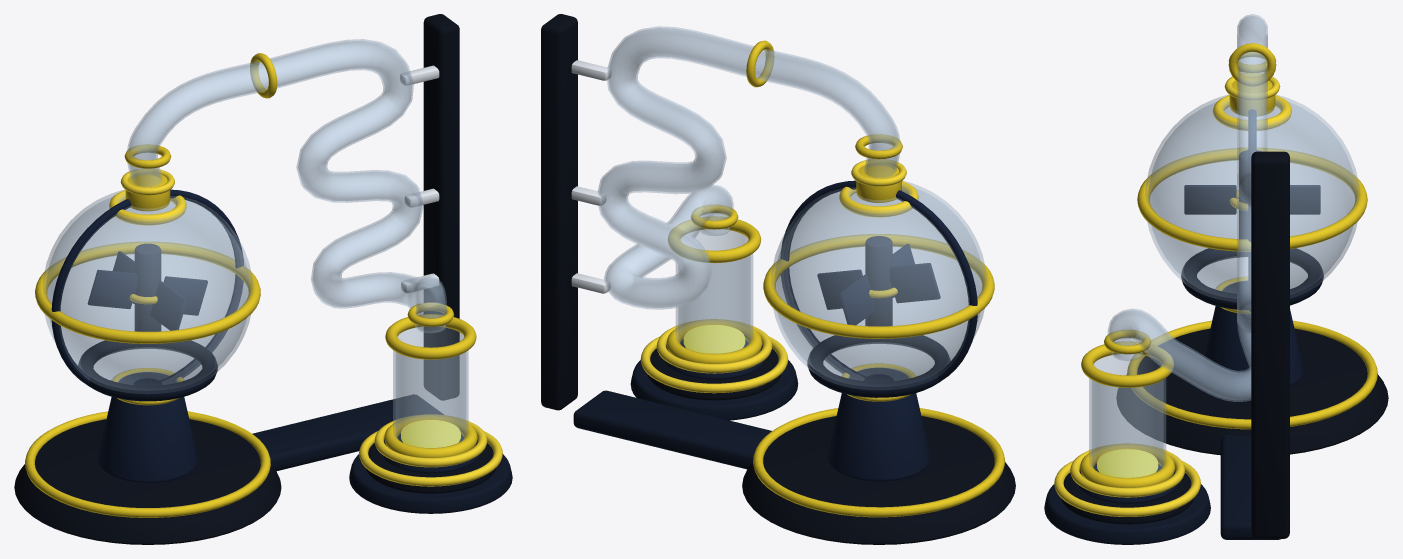
File: raffle-machine.glb
3 renders of one model, left to right at view 1: azimuth 30°, elevation 25°; view 2: azimuth 150°, elevation 25°; view 3: azimuth 270°, elevation 25°, orthographic. The views are drawn at different scales.
Parts seen in each view (by area): view 1: Ball_Chamber, Ball_Tube, Machine_Base, Machine_Support_Spine, WinningBall_Display, Machine_Support, Machine_Base_Arm, Chamber_Frame, Machine_Base_Ring, WinningBall_Podium_03, Chamber_Frame_Meridian, Chamber_Cradle (+17 smaller); view 2: Ball_Chamber, Ball_Tube, Machine_Base, Machine_Support_Spine, Machine_Support, Machine_Base_Arm, WinningBall_Display, Chamber_Frame, Machine_Base_Ring, Chamber_Frame_Meridian, Chamber_Cradle, WinningBall_Podium_03 (+19 smaller); view 3: Ball_Chamber, Machine_Base, Machine_Support_Spine, Ball_Tube, WinningBall_Display, Chamber_Frame, Machine_Support, WinningBall_Podium_03, Machine_Base_Ring, Machine_Base_Arm, Chamber_Cradle, WinningBall_Ring_Top (+15 smaller).
Boxes of the visible parts, x1,y1,x2,y2 form: Ball_Chamber: (43, 190, 252, 393); Ball_Tube: (127, 39, 446, 332); Machine_Base: (14, 419, 281, 544); Machine_Support_Spine: (423, 14, 459, 400); WinningBall_Display: (393, 327, 468, 447); Machine_Support: (97, 372, 197, 483); Machine_Base_Arm: (252, 394, 443, 471); Chamber_Frame: (35, 242, 260, 343); Machine_Base_Ring: (25, 411, 270, 517); WinningBall_Podium_03: (349, 454, 512, 513); Chamber_Frame_Meridian: (51, 189, 243, 385); Chamber_Cradle: (78, 340, 217, 401); Ball_Chamber: (771, 181, 986, 389); Ball_Tube: (597, 26, 900, 309); Machine_Base: (742, 416, 1015, 544); Machine_Support_Spine: (541, 14, 577, 410); Machine_Support: (827, 368, 930, 481); Machine_Base_Arm: (573, 390, 771, 469); WinningBall_Display: (676, 229, 752, 353); Chamber_Frame: (763, 234, 994, 338); Machine_Base_Ring: (753, 408, 1004, 517); Chamber_Frame_Meridian: (780, 180, 977, 381); Chamber_Cradle: (807, 335, 950, 397); WinningBall_Podium_03: (630, 360, 798, 420); Ball_Chamber: (1145, 95, 1359, 301); Machine_Base: (1116, 328, 1388, 455); Machine_Support_Spine: (1251, 151, 1289, 538); Ball_Tube: (1108, 14, 1267, 401); WinningBall_Display: (1089, 354, 1165, 477); Chamber_Frame: (1137, 148, 1367, 251); Machine_Support: (1201, 281, 1303, 393); WinningBall_Podium_03: (1044, 484, 1210, 544); Machine_Base_Ring: (1127, 320, 1377, 429); Machine_Base_Arm: (1220, 434, 1280, 539); Chamber_Cradle: (1181, 248, 1323, 310); WinningBall_Ring_Top: (1081, 341, 1173, 387).
Bounding box in the file's own units: 4.45 × 4.03 × 3.03.
